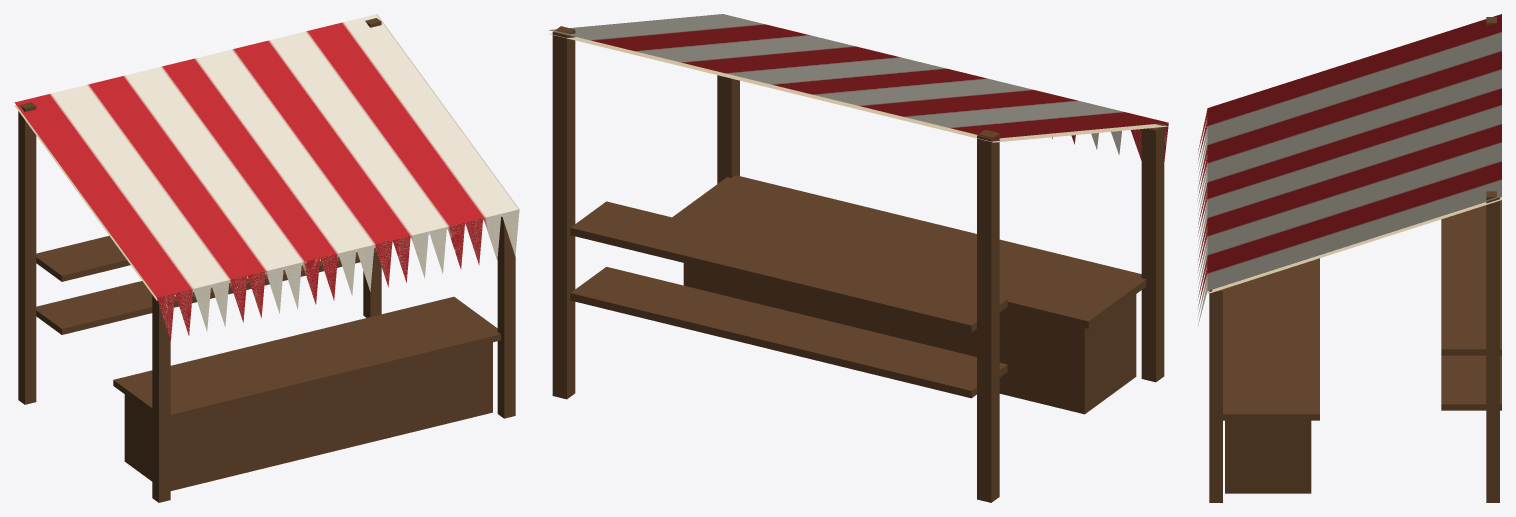
Rendered from SM_stall_awning.glb.
3 views of the same model, side by side, from view 1: azimuth 30°, elevation 25°; view 2: azimuth 150°, elevation 25°; view 3: azimuth 270°, elevation 25° (orthographic). The views are drawn at different scales.
Visible parts, largest first — view 1: SM_stall_awning; view 2: SM_stall_awning; view 3: SM_stall_awning.
Part boxes in pixels (box(x1,y1,x2,y2)): SM_stall_awning: box(14, 14, 519, 502); SM_stall_awning: box(548, 14, 1168, 502); SM_stall_awning: box(1197, 14, 1501, 502).
Bounding box in the file's own units: 5 × 3.92 × 3.52.
Materials: 1 (1 with a texture image).
